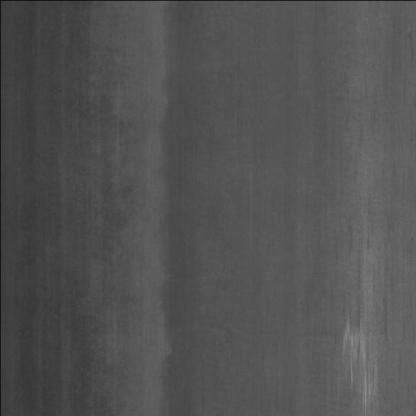silk_spot: (334, 299, 386, 406)
